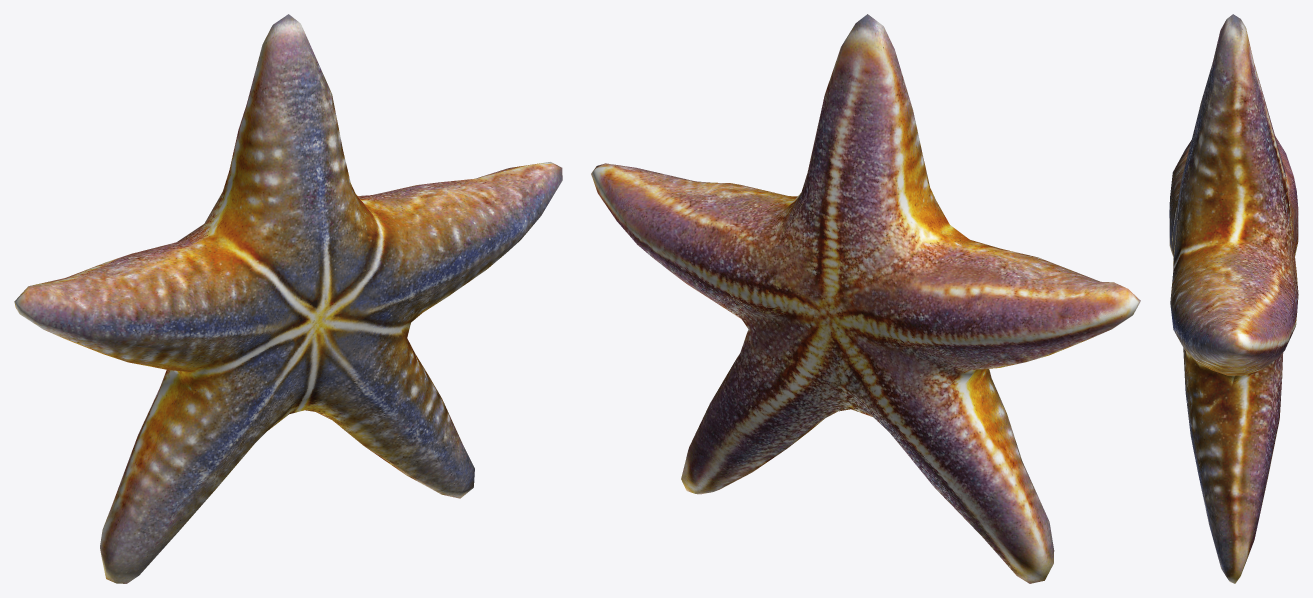
The model's file is estrella.fbx.
3 views of the same model, side by side, from view 1: azimuth 30°, elevation 25°; view 2: azimuth 150°, elevation 25°; view 3: azimuth 270°, elevation 25° (orthographic). The views are drawn at different scales.
Parts seen in each view (by area): view 1: Starfish_Low_Poly; view 2: Starfish_Low_Poly; view 3: Starfish_Low_Poly.
Boxes of the visible parts, x1,y1,x2,y2 form: Starfish_Low_Poly: (14, 14, 562, 583); Starfish_Low_Poly: (591, 14, 1140, 583); Starfish_Low_Poly: (1169, 14, 1298, 583).
Size of the model in its own units: 20.69 by 19.2 by 4.55.
Materials: 1 (1 with a texture image).
